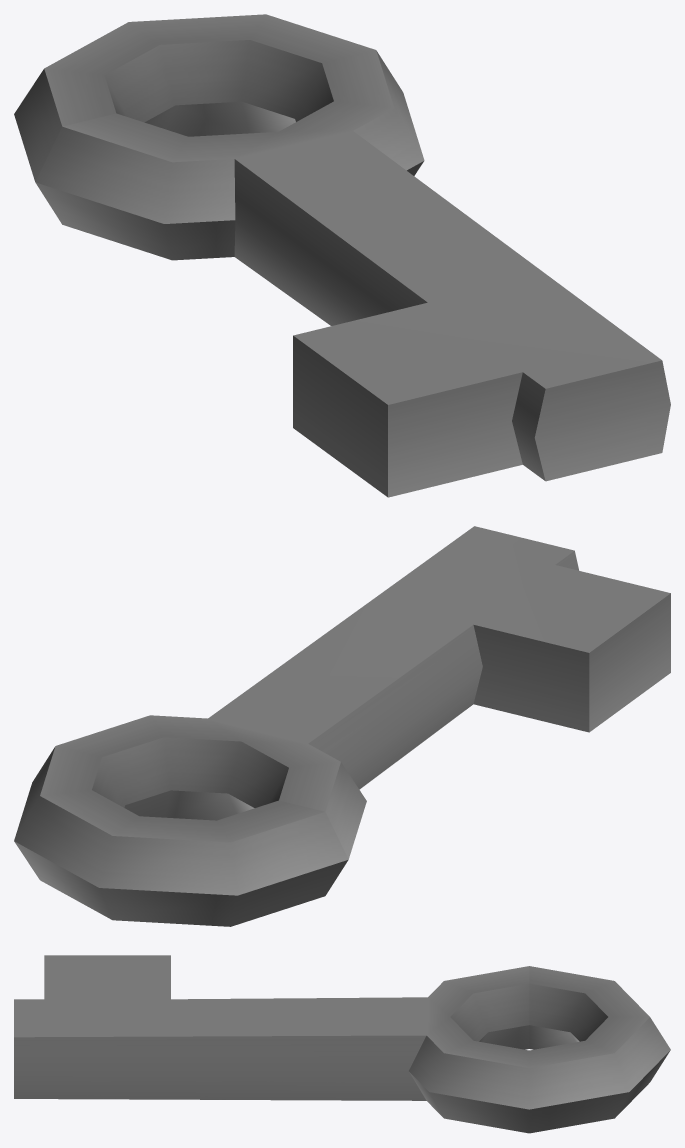
The model's file is key1.fbx.
The picture shows the model from 3 angles, top to bottom: view 1: azimuth 30°, elevation 25°; view 2: azimuth 150°, elevation 25°; view 3: azimuth 270°, elevation 25°; orthographic projection. The views are drawn at different scales.
Parts seen in each view (by area): view 1: Key; view 2: Key; view 3: Key.
Part boxes in pixels (x1,y1,x2,y2): Key: (14, 14, 670, 497); Key: (14, 526, 670, 926); Key: (14, 955, 670, 1133).
Bounding box in the file's own units: 11.36 × 2.81 × 25.59.
